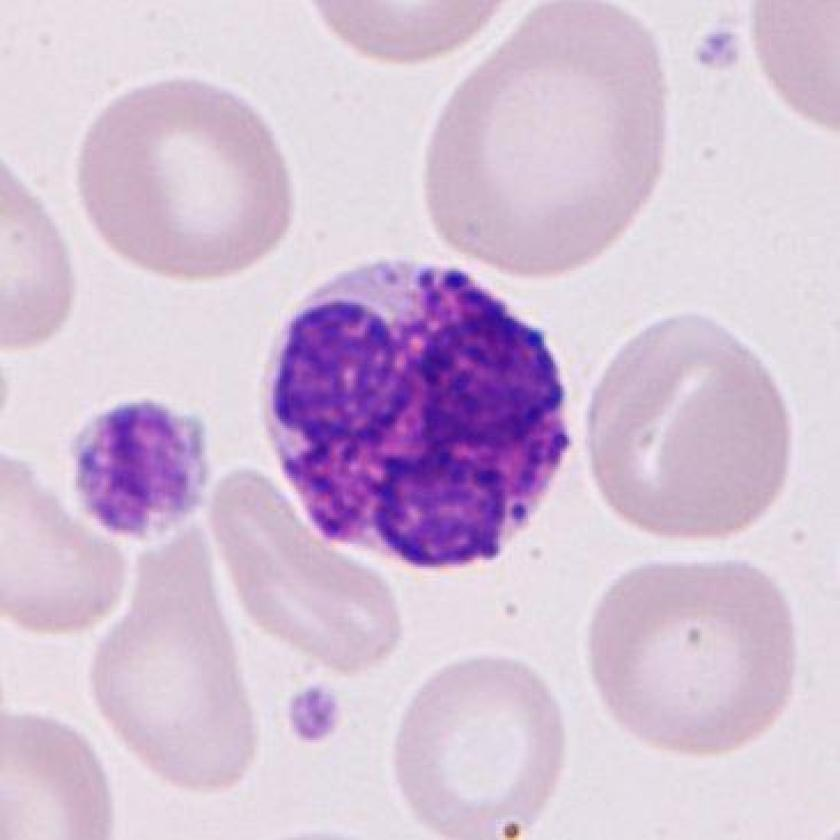basophil: (267, 247, 575, 572)
